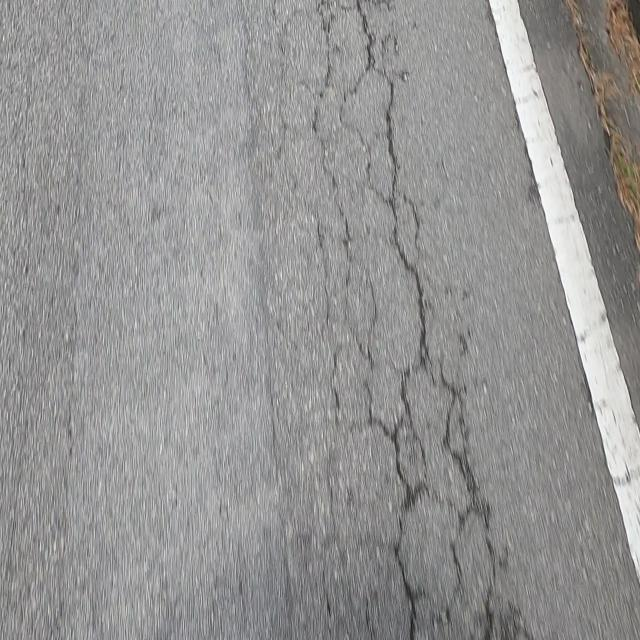Retak-Buaya: (308, 0, 494, 640)
